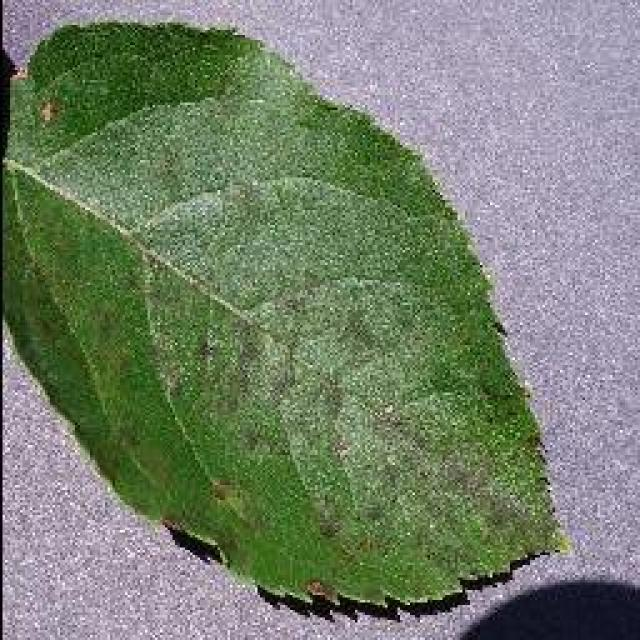apple scab disease: (0, 15, 572, 620)
